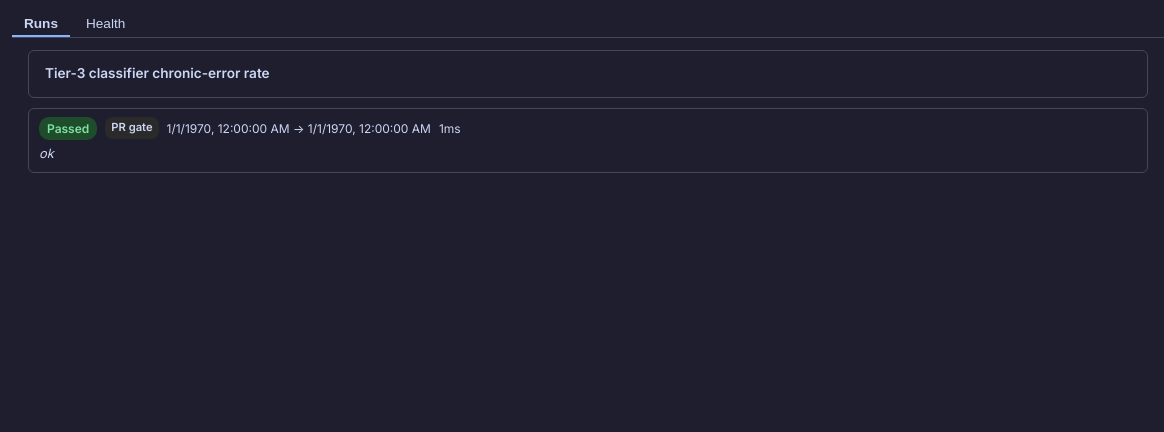
Test: TestsView tabs › preserves the Runs list when switching to Health and back
Check: the element with test id "project-test-run-run-1" is shown, box 28,108 -> 1148,174
Click the tab with test id "tests-tab-health" at (106, 24), box 74,12 -> 137,37
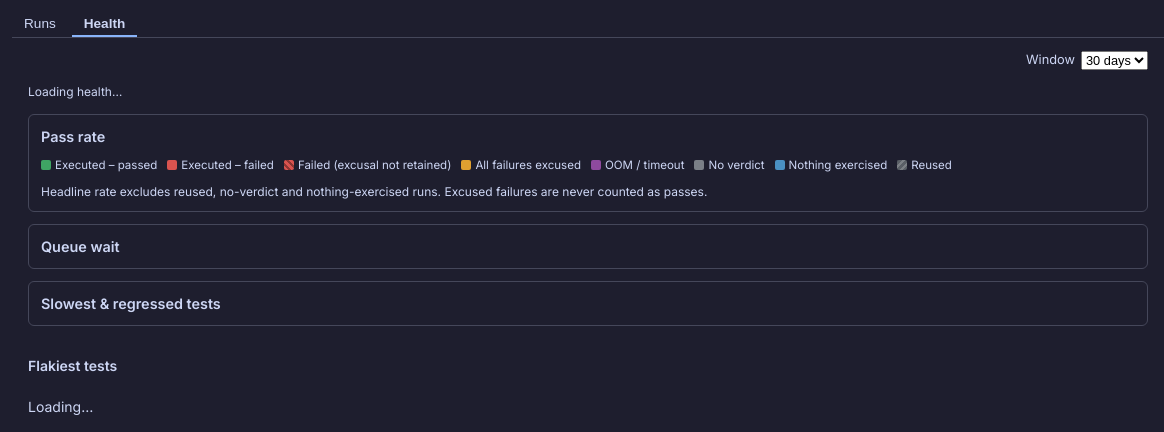
Check: the element with test id "tests-health-tab" is shown
Check: the element with test id "project-test-run-run-1" is gone
Click the tab with test id "tests-tab-runs" at (40, 24), box 12,12 -> 68,37
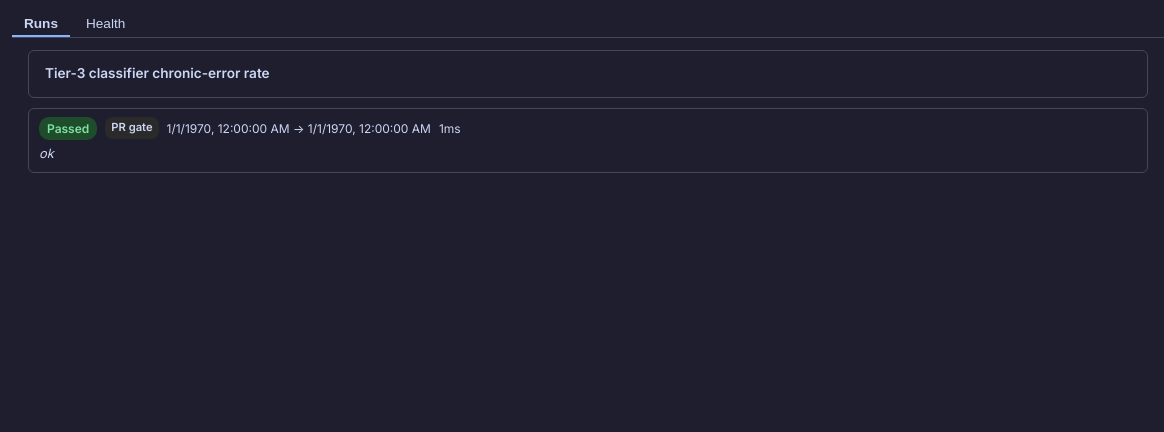
Check: the element with test id "project-test-run-run-1" is shown, box 28,108 -> 1148,174
